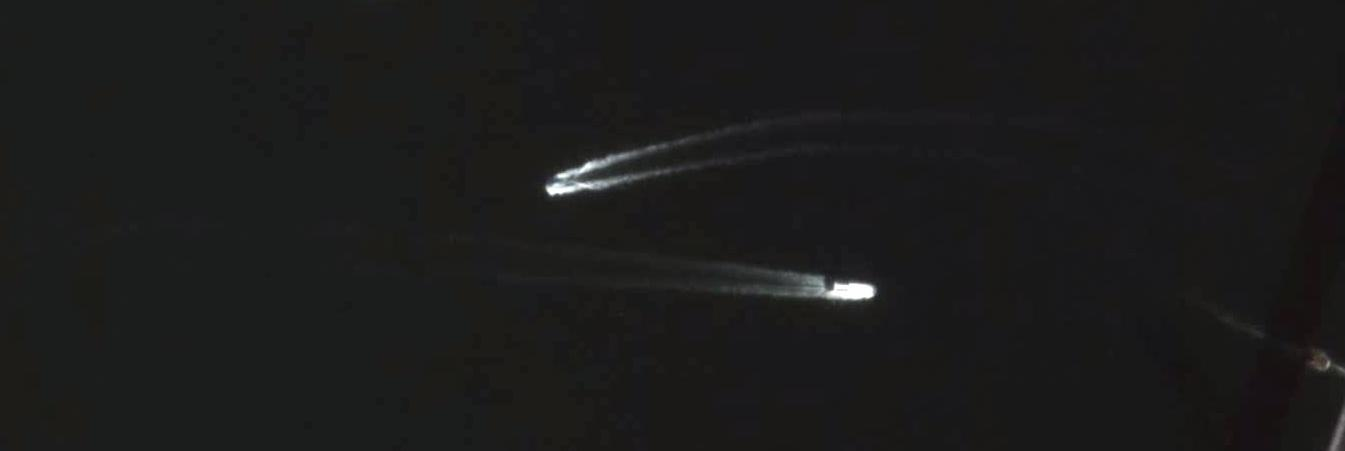person: (833, 282, 875, 300), (547, 178, 571, 187)
